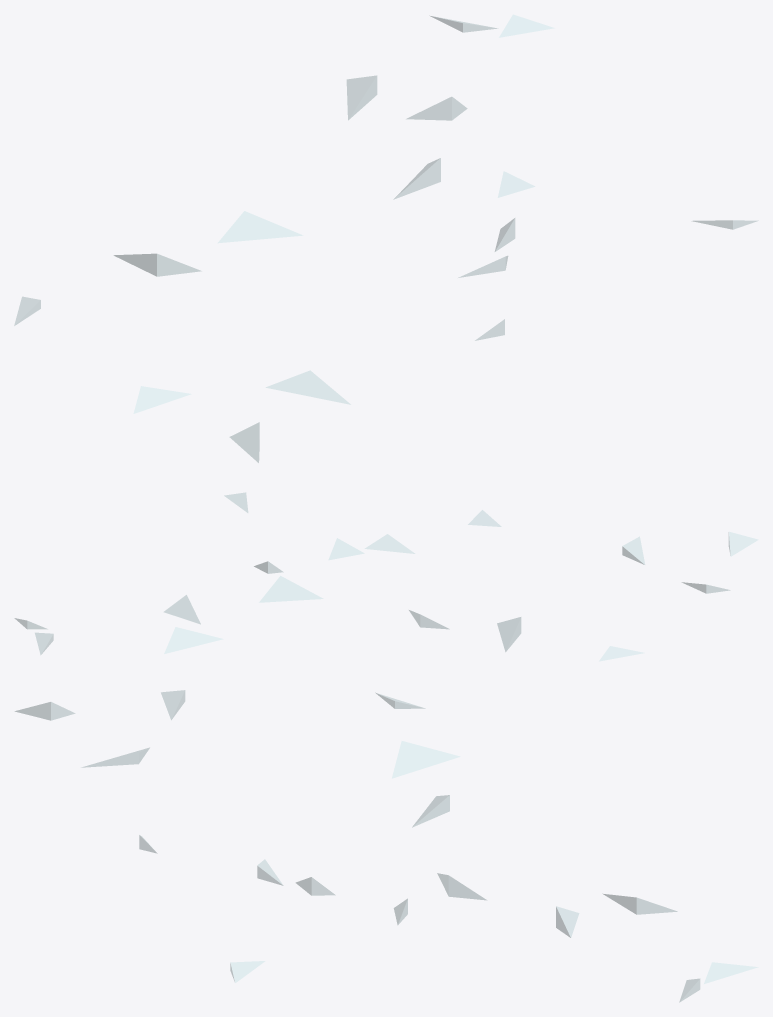
File: tr_glass.glb
The picture shows the model from 3 angles, top to bottom: view 1: azimuth 30°, elevation 25°; view 2: azimuth 150°, elevation 25°; view 3: azimuth 270°, elevation 25°; orthographic projection. The views are drawn at different scales.
Visible parts, largest first — view 1: block_shard (×6); view 2: block_shard (×9); view 3: block_shard (×6).
Part boxes in pixels (bbox=[...]): block_shard (×6): bbox=[114, 75, 467, 413]; block_shard (×9): bbox=[164, 532, 758, 661]; block_shard (×6): bbox=[15, 702, 757, 983].
Size of the model in its own units: 0.8375 by 0.0272 by 0.849.
Materials: 1 (1 with a texture image).
